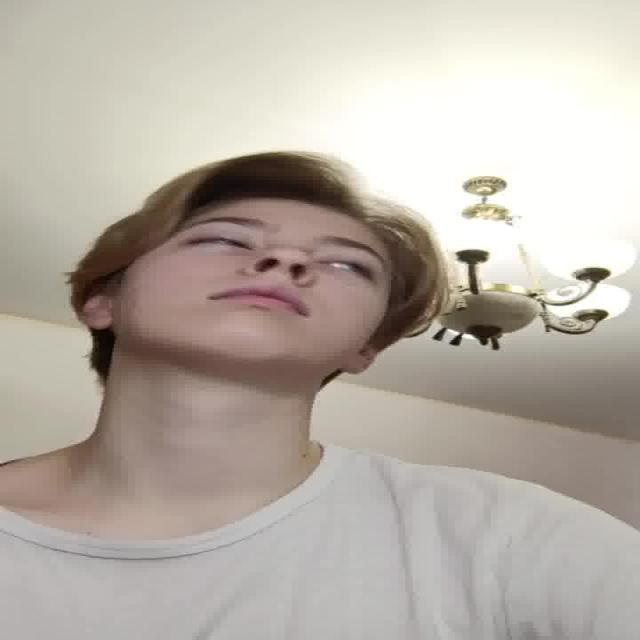earlobe: (337, 358, 367, 376), (83, 317, 119, 331)
eye: (185, 233, 261, 255), (318, 255, 379, 277)
nose: (247, 262, 307, 292)
wholeear: (79, 292, 115, 330), (340, 343, 382, 373)
